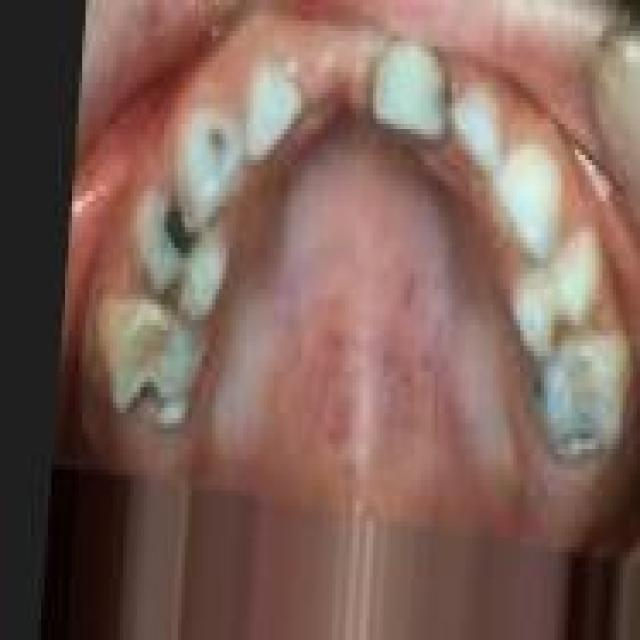caries: (110, 285, 192, 422), (532, 340, 618, 466), (144, 192, 209, 270), (186, 117, 234, 180)
